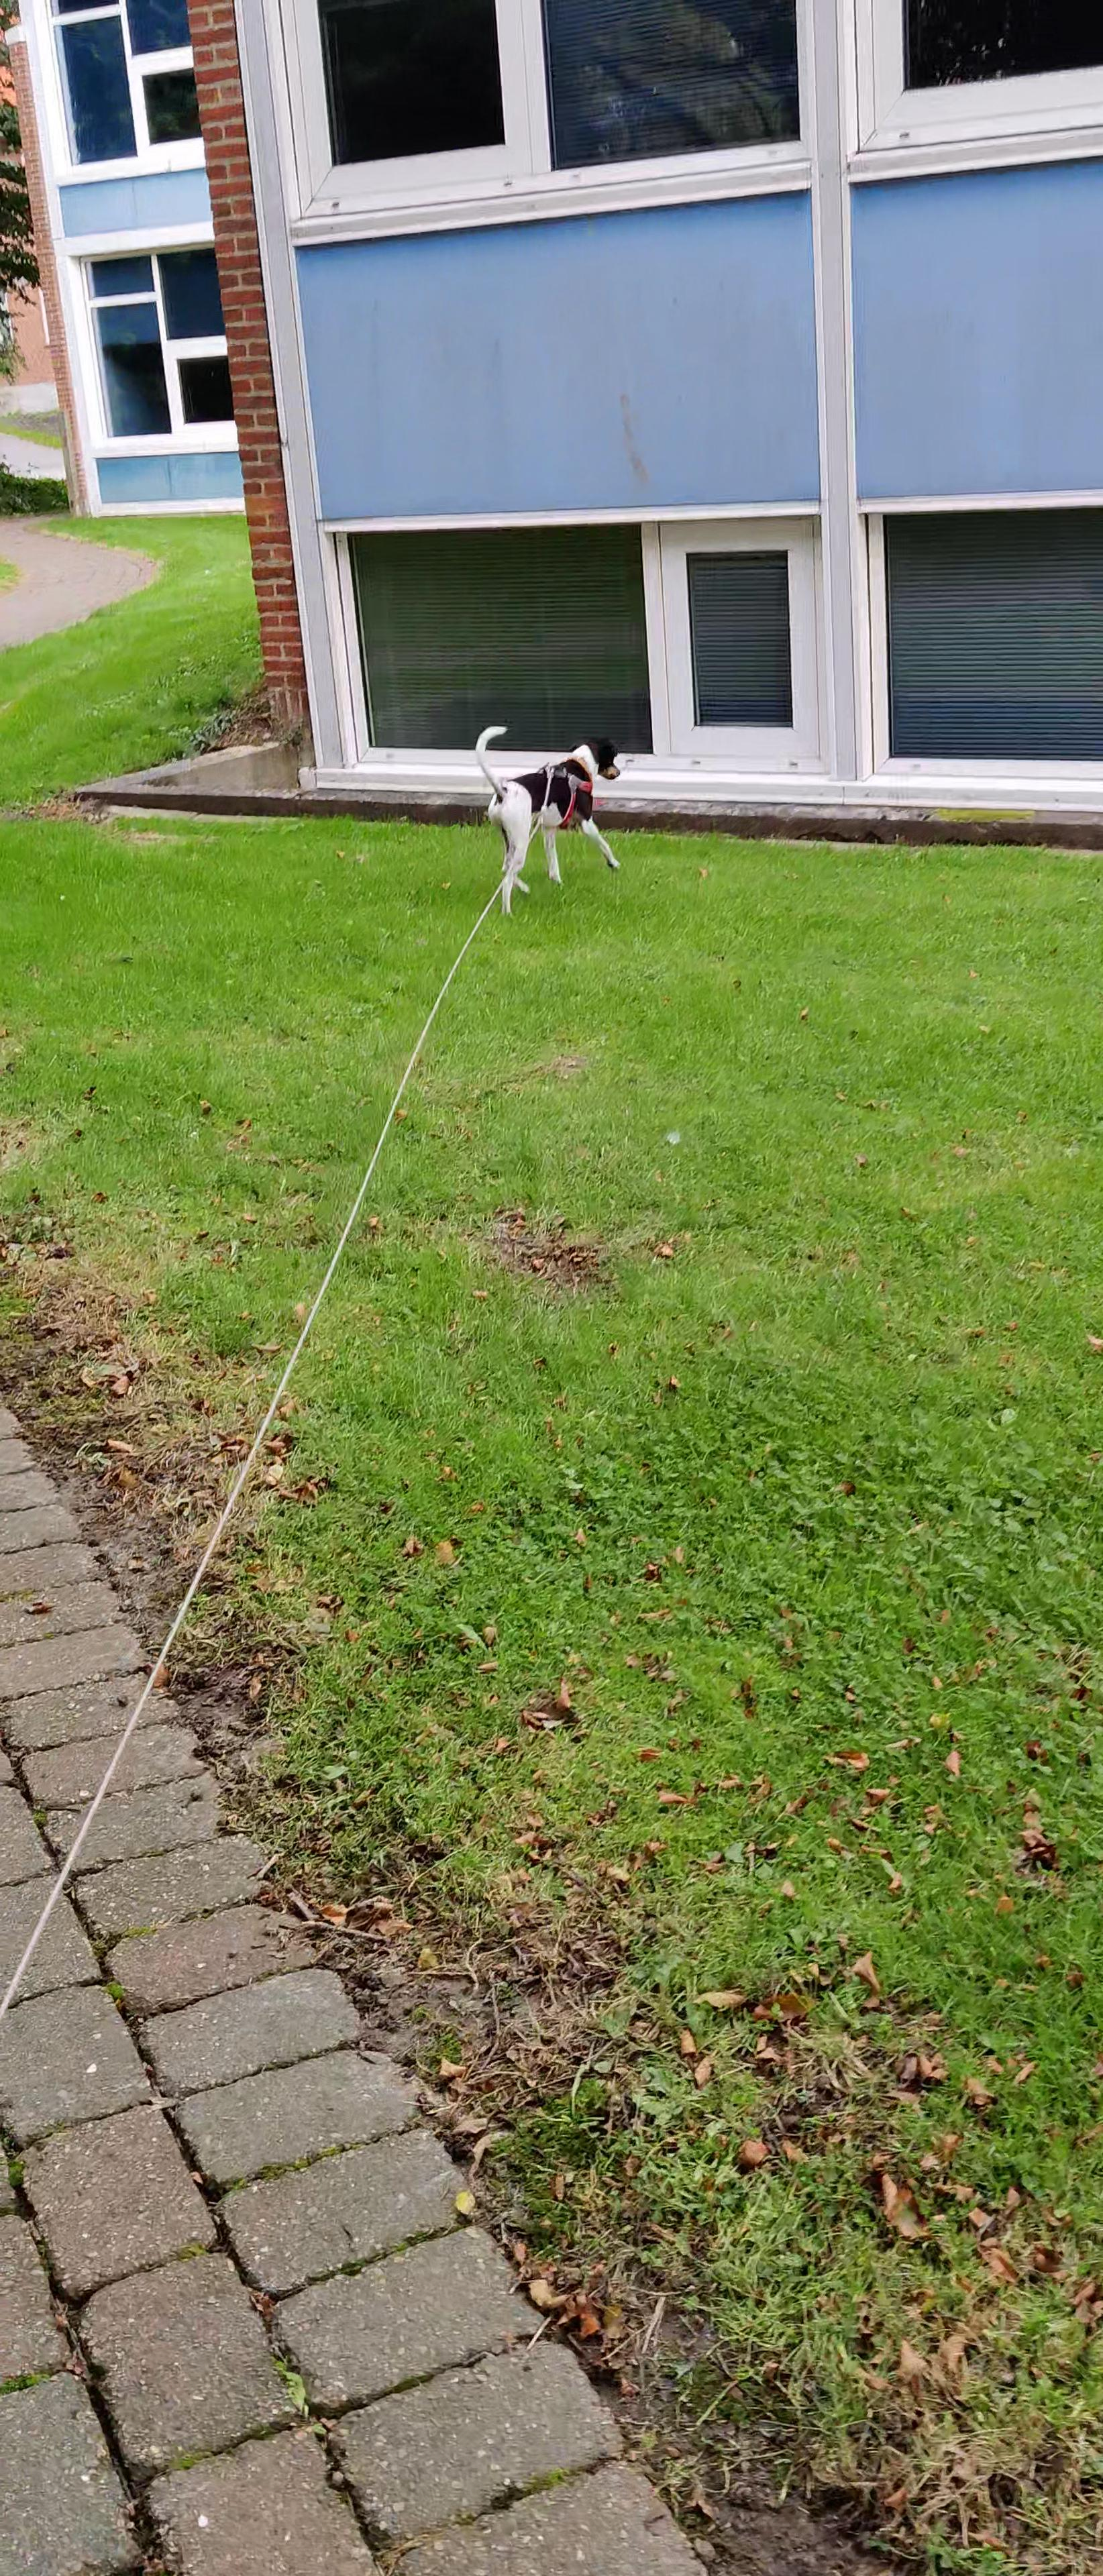Dog: (475, 724, 625, 917)
